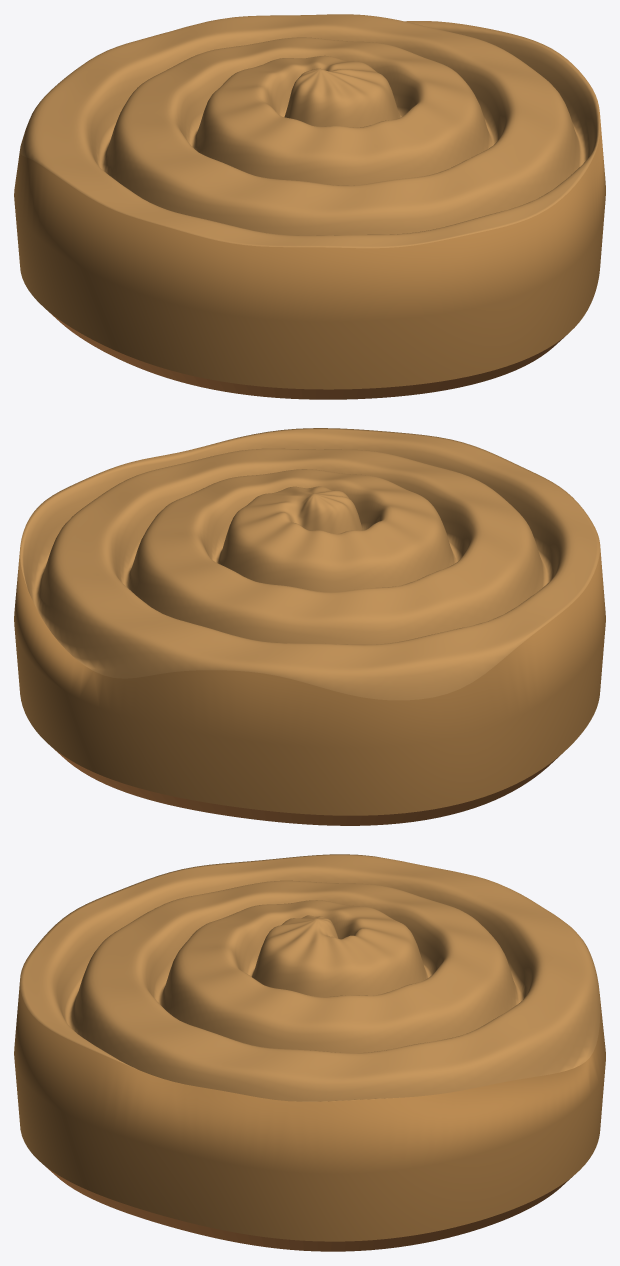
3 renders of one model, top to bottom at view 1: azimuth 30°, elevation 25°; view 2: azimuth 150°, elevation 25°; view 3: azimuth 270°, elevation 25°, orthographic.
Parts seen in each view (by area): view 1: NEW328_CinnamonRoll_LOD0; view 2: NEW328_CinnamonRoll_LOD0; view 3: NEW328_CinnamonRoll_LOD0.
Boxes of the visible parts, x1,y1,x2,y2 form: NEW328_CinnamonRoll_LOD0: (14,14,605,399); NEW328_CinnamonRoll_LOD0: (14,428,605,825); NEW328_CinnamonRoll_LOD0: (14,854,605,1251).
Bounding box in the file's own units: 0.0921 × 0.037 × 0.092.
